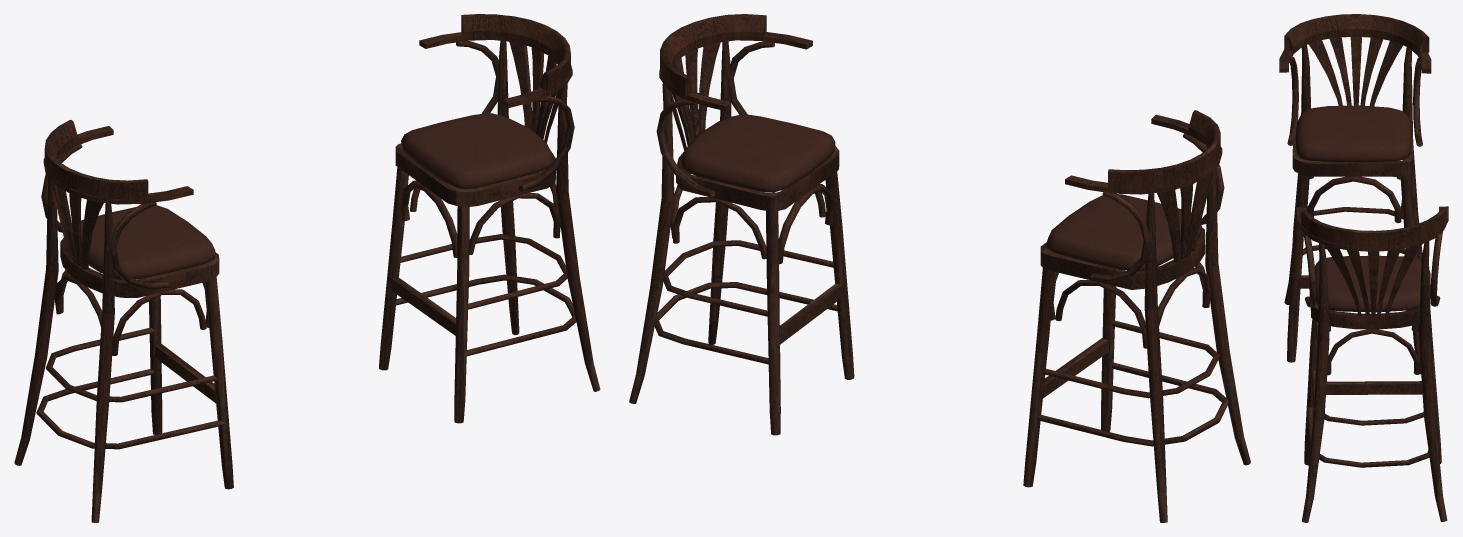
File: CF_yizi.fbx
3 views of the same model, side by side, from view 1: azimuth 30°, elevation 25°; view 2: azimuth 150°, elevation 25°; view 3: azimuth 270°, elevation 25° (orthographic). The views are drawn at different scales.
Visible parts, largest first — view 1: CF_yizi; view 2: CF_yizi; view 3: CF_yizi.
Part boxes in pixels (bbox=[...]): CF_yizi: bbox=[14, 14, 600, 522]; CF_yizi: bbox=[629, 14, 1250, 522]; CF_yizi: bbox=[1279, 14, 1448, 522].
Bounding box in the file's own units: 154 × 93.51 × 49.37.
